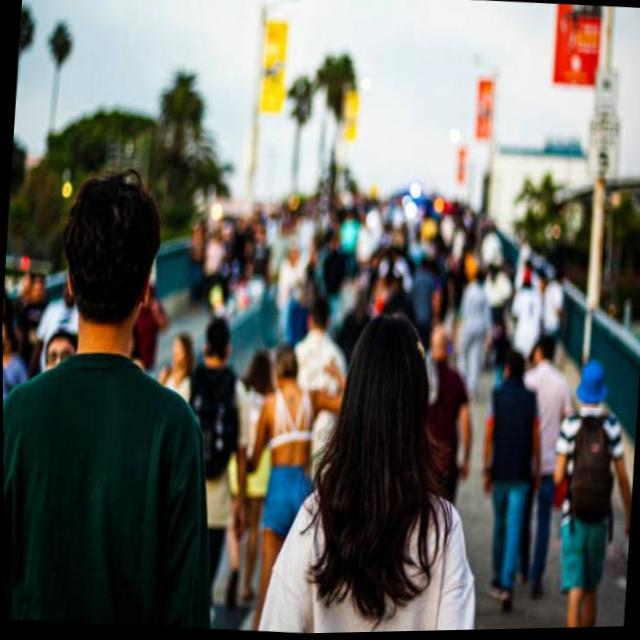no helmet: (49, 155, 169, 366), (327, 306, 431, 505)
